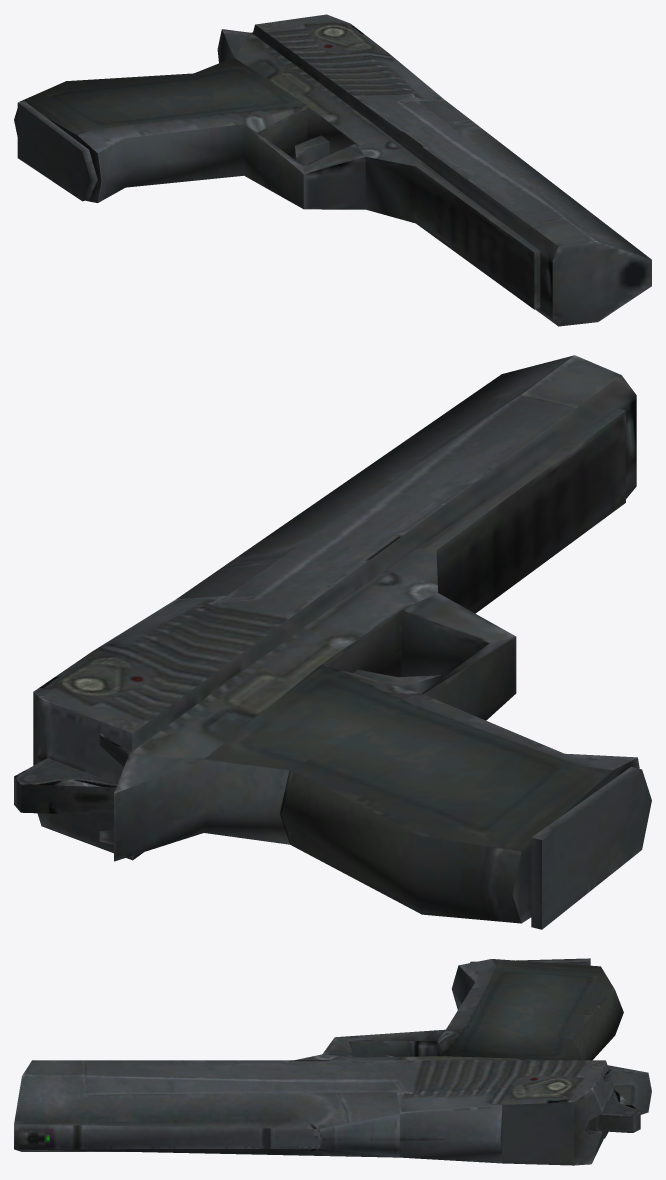
The model's file is Pickup_WeaponSq03.glb.
3 renders of one model, top to bottom at view 1: azimuth 30°, elevation 25°; view 2: azimuth 150°, elevation 25°; view 3: azimuth 270°, elevation 25°, orthographic. The views are drawn at different scales.
Visible parts, largest first — view 1: pk_weapon_sq03; view 2: pk_weapon_sq03; view 3: pk_weapon_sq03.
Boxes of the visible parts, x1,y1,x2,y2 form: pk_weapon_sq03: (14,14,651,326); pk_weapon_sq03: (14,355,651,929); pk_weapon_sq03: (14,958,651,1165).
Bounding box in the file's own units: 0.7418 × 0.1693 × 1.29.
Materials: 1 (1 with a texture image).
